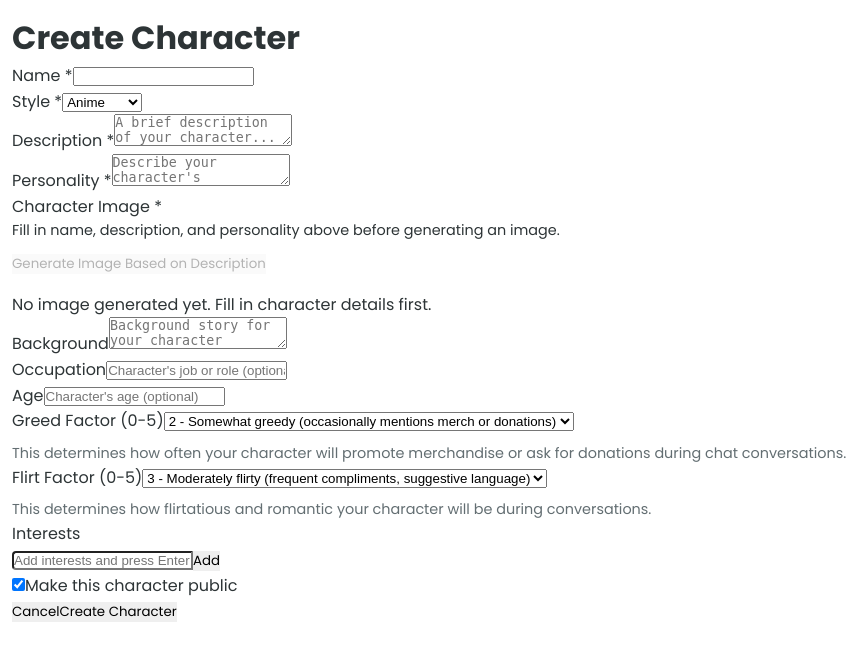
Scenario: CharacterCreator Component › Interests functionality › should remove interest when X is clicked
Note: Add an interest
In the field with placeholder "Add interests and press Enter": (102, 560) [12, 551, 193, 570], type "Music"
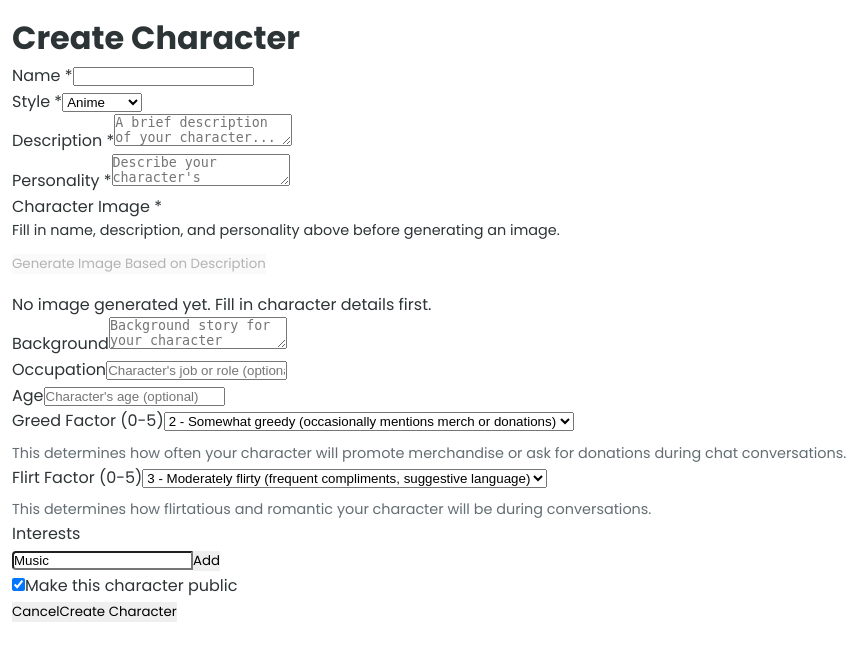
Press Enter in the field with placeholder "Add interests and press Enter", box [12, 551, 193, 570]
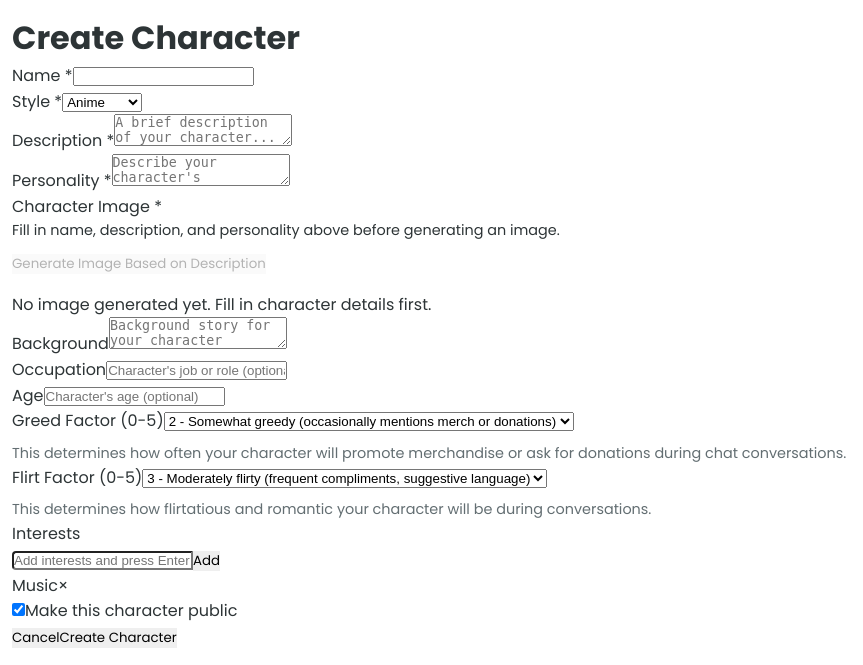
Now the text "Music" is shown, box [12, 574, 58, 597]
Note: Remove the interest
Click the text "×": click(63, 585) [58, 574, 68, 597]
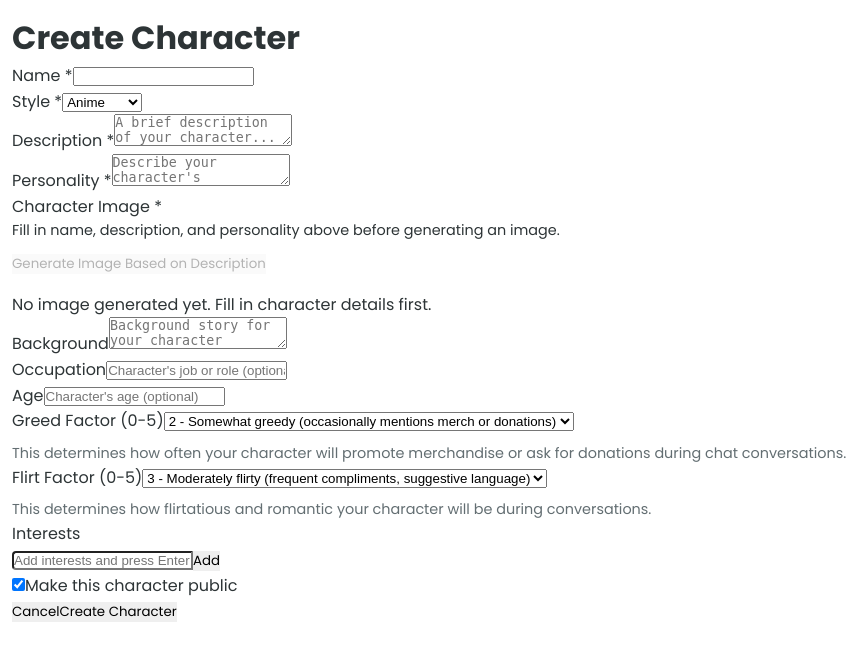
Now the text "Music" is gone
